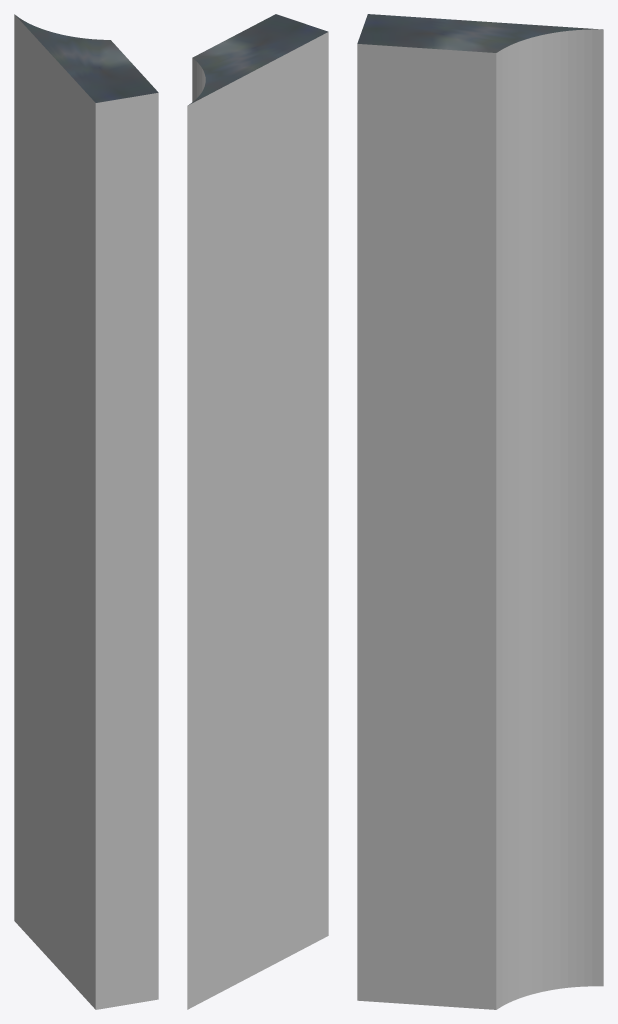
The model's file is DEBW_0010007THYa.gltf.
3 renders of one model, left to right at view 1: azimuth 30°, elevation 25°; view 2: azimuth 150°, elevation 25°; view 3: azimuth 270°, elevation 25°, orthographic. The views are drawn at different scales.
Visible parts, largest first — view 1: Z_UP; view 2: Z_UP; view 3: Z_UP.
Part boxes in pixels (left/top/right/bottom): Z_UP: left=14, top=14, right=158, bottom=1009; Z_UP: left=187, top=14, right=328, bottom=1009; Z_UP: left=357, top=14, right=603, bottom=1009.
Bounding box in the file's own units: 1.31 × 14.95 × 3.49.
Materials: 2 (1 with a texture image).
